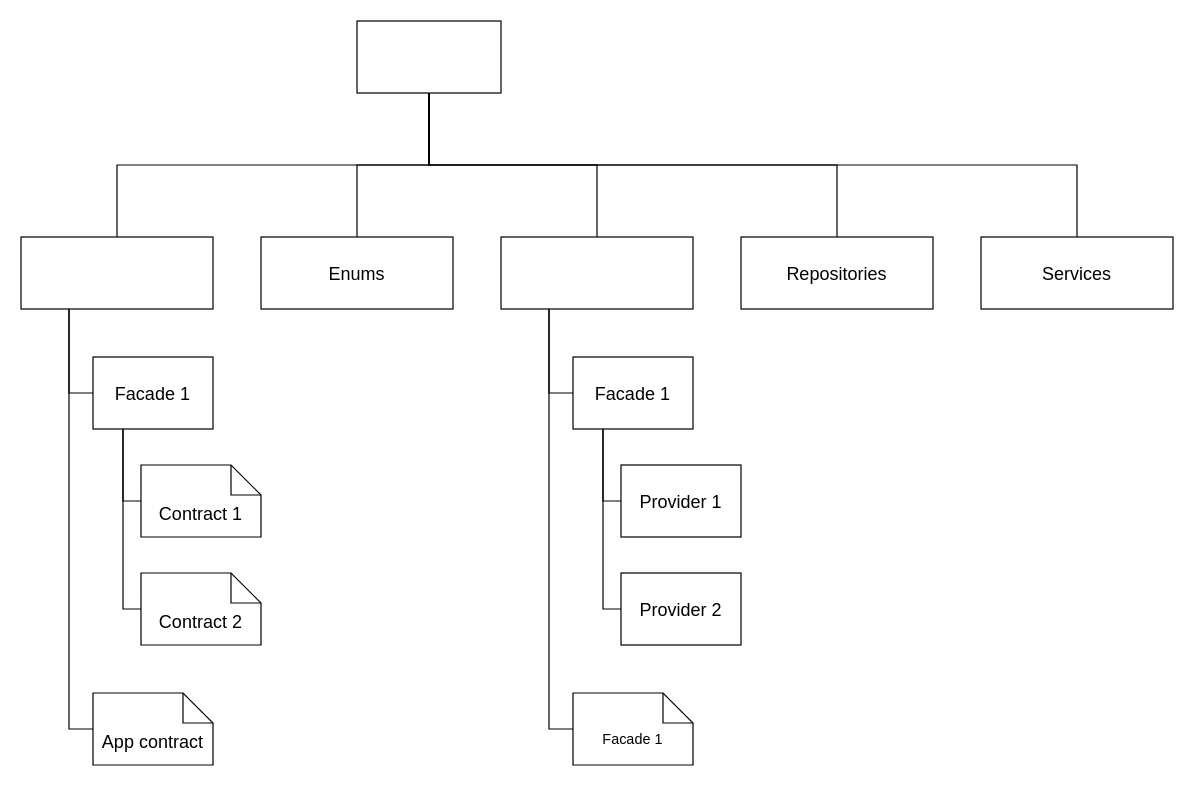
This 1194x786 diagram has some shape labels left out. Each missing label, with the centre of its shape:
App: point 428,56
Contracts: point 116,272
Facades: point 596,272
